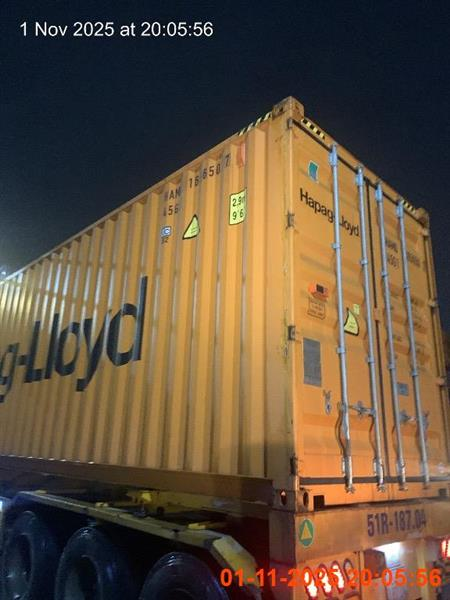broken: (1, 98, 449, 599)
